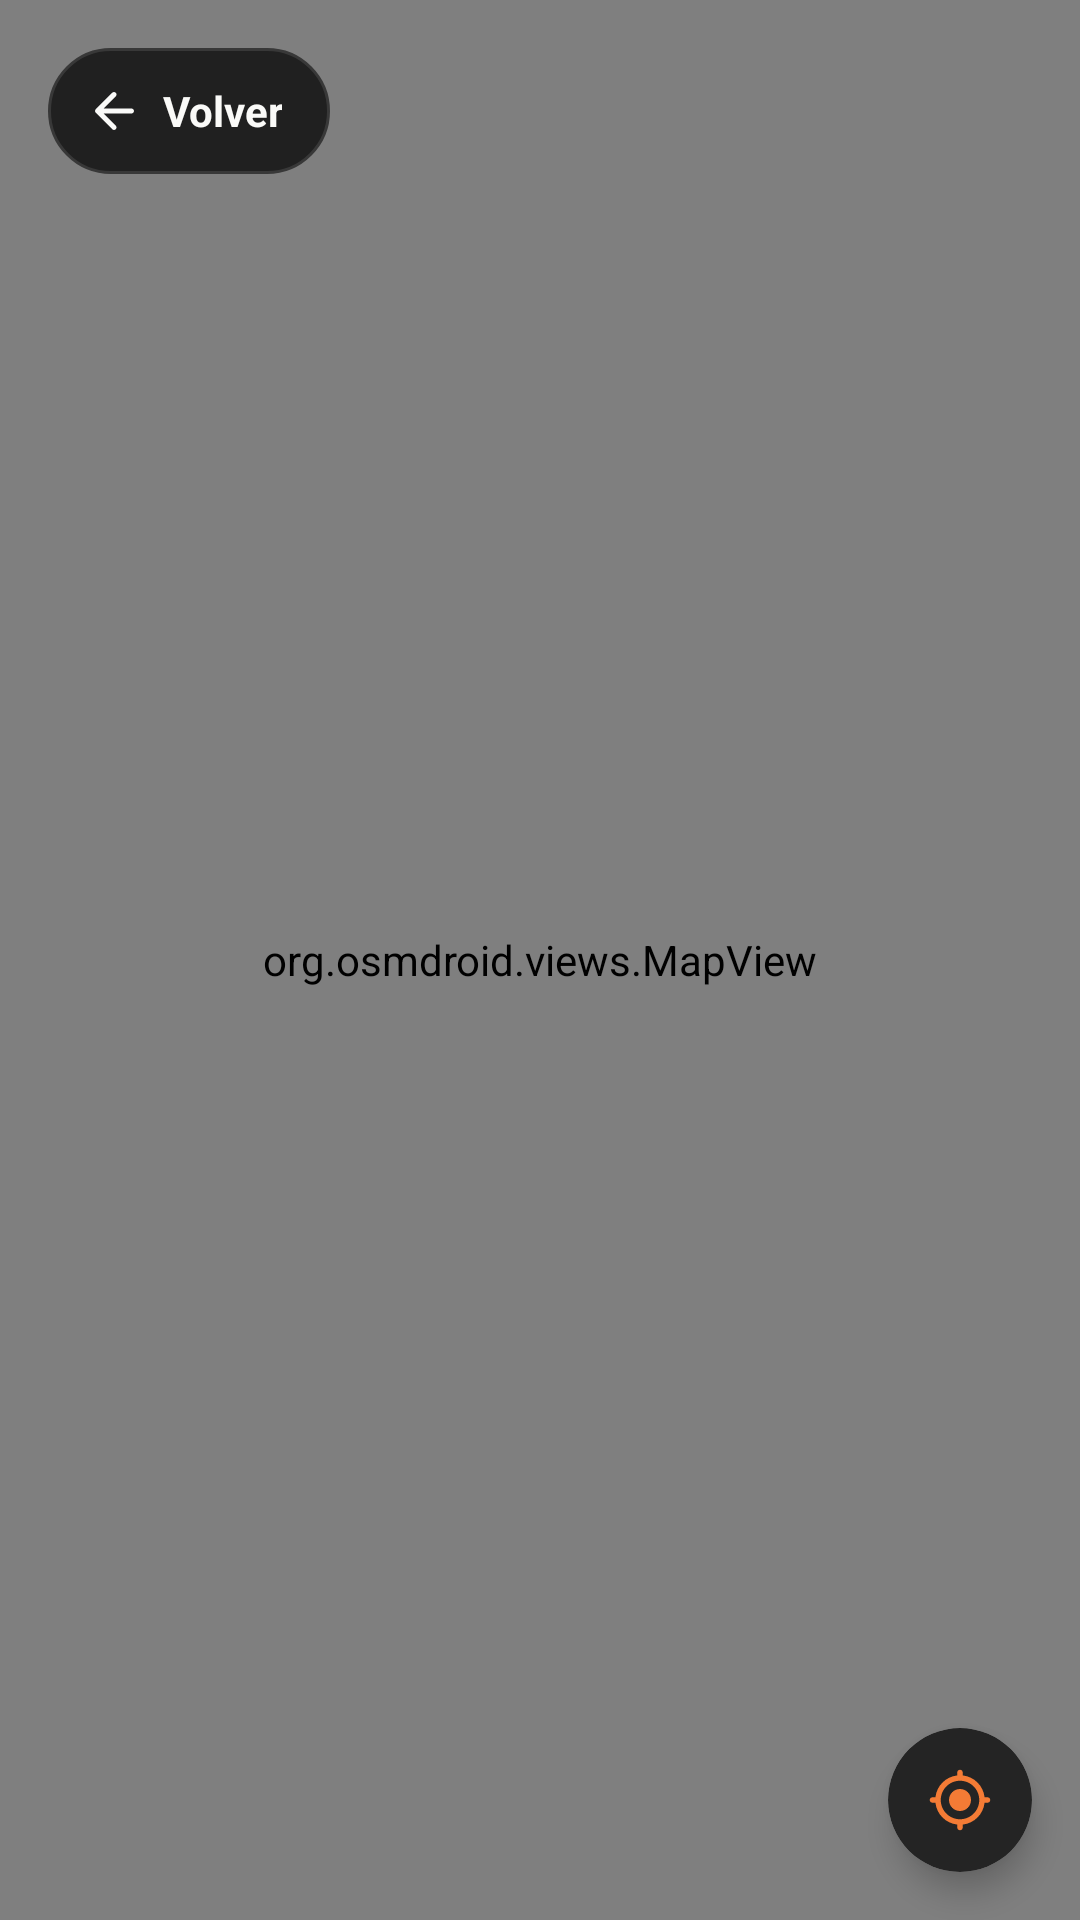

Named icons in this screenshot (1080px x 1920px) and their bounding boxes, [x1=x1, y1=y1, x2=x2, y2=y2]:
Centrar en mi ubicación: [x1=929, y1=1769, x2=991, y2=1831]
